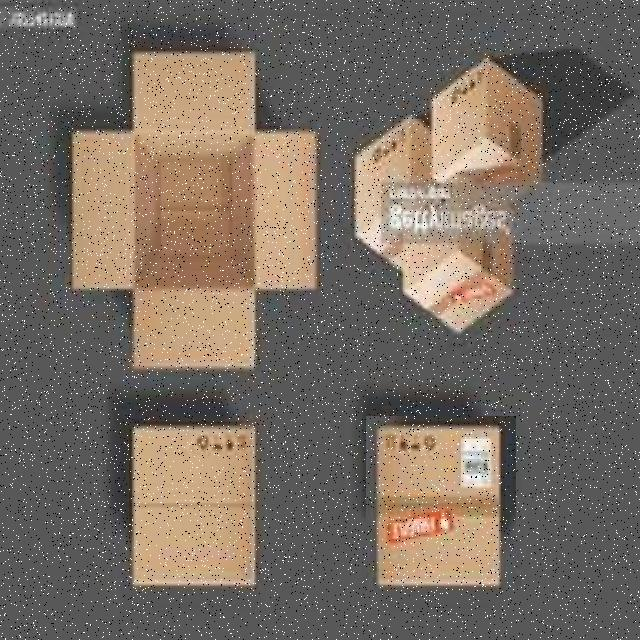defect: (58, 34, 330, 377)
normal: (124, 412, 274, 592), (366, 416, 516, 596)
